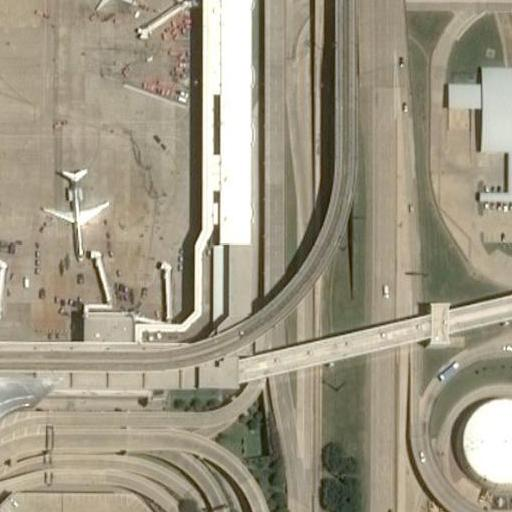Aircraft: (32, 155, 113, 262), (71, 0, 141, 19)
